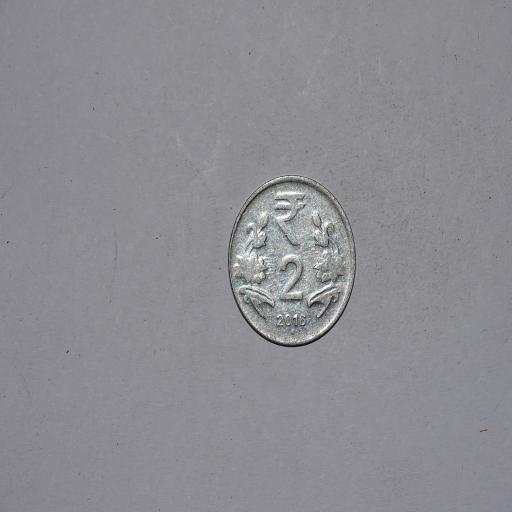rupee2: (224, 175, 359, 354)
